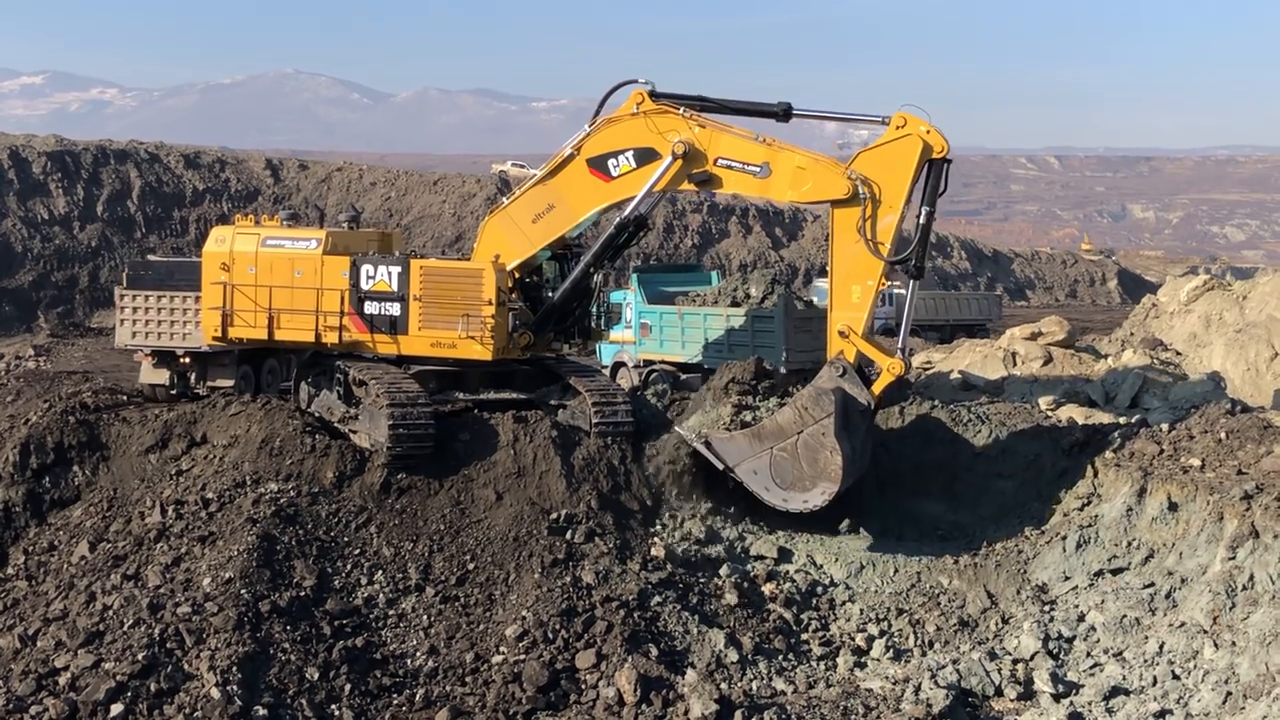full: (678, 350, 888, 517)
